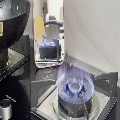fire: (56, 57, 94, 104)
